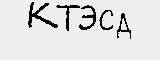Д: (115, 12, 132, 39)
К: (24, 1, 59, 31)
С: (98, 9, 115, 33)
Т: (56, 3, 81, 34)
Э: (76, 2, 97, 34)
